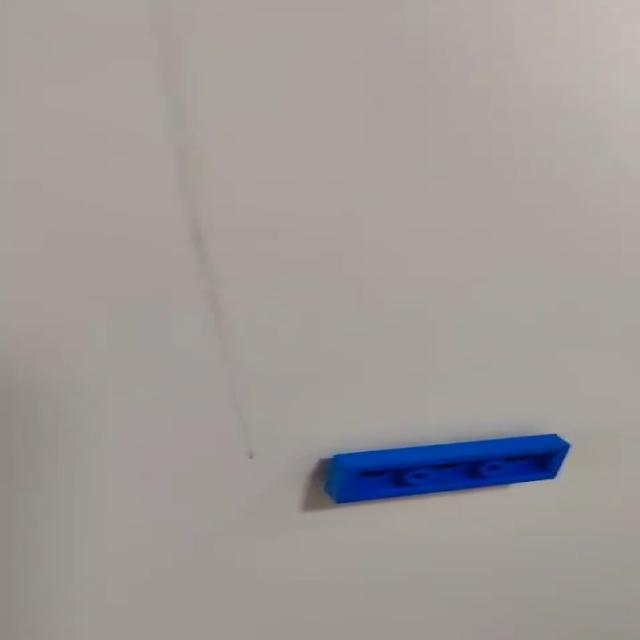C3x1x0: (326, 433, 568, 507)
